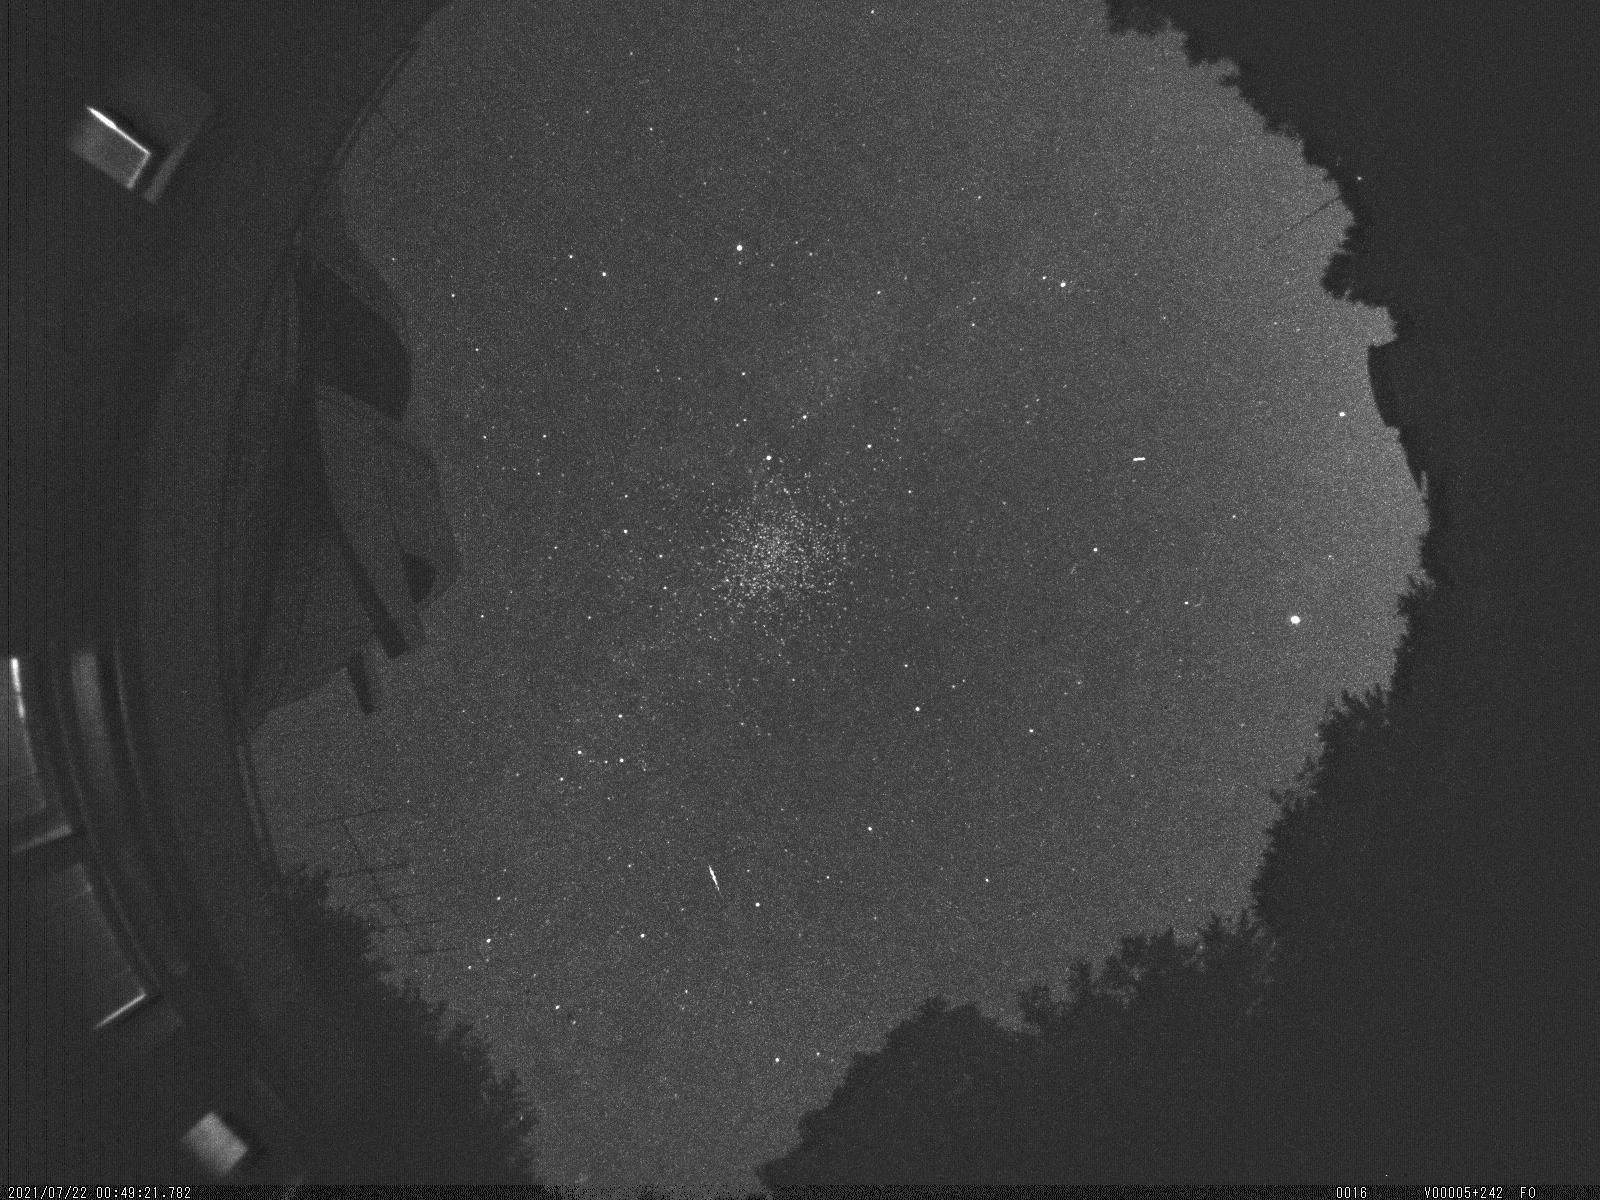Meteor: (704, 857, 727, 908)
